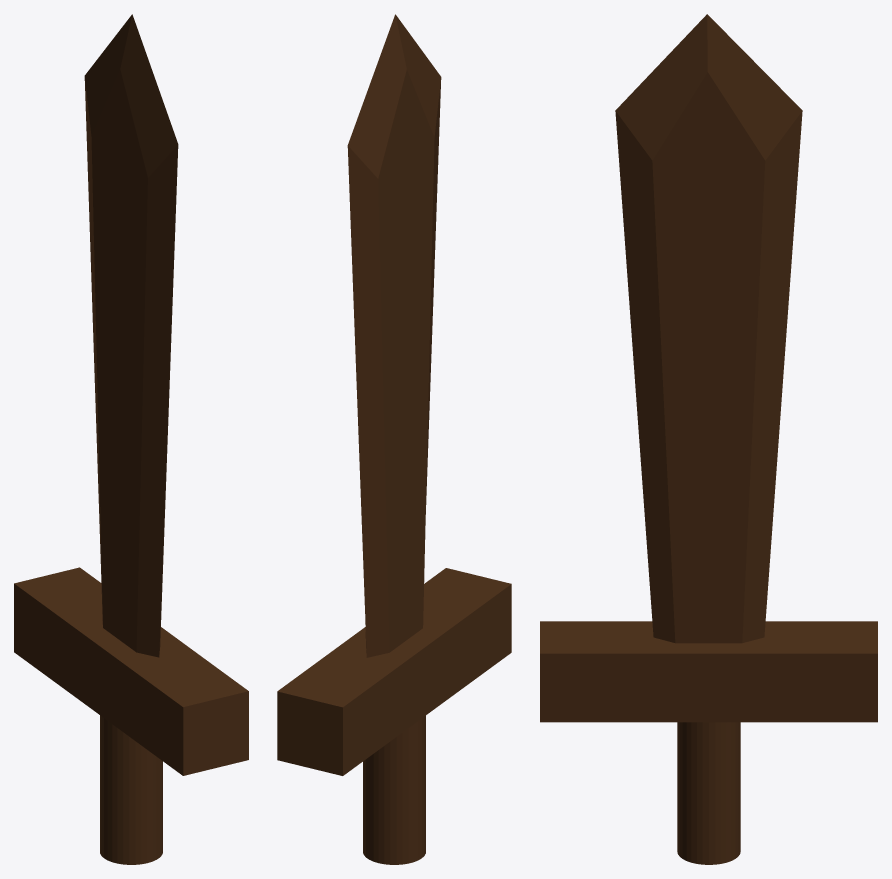
The model's file is Wood Sword.fbx.
The picture shows the model from 3 angles, left to right: view 1: azimuth 30°, elevation 25°; view 2: azimuth 150°, elevation 25°; view 3: azimuth 270°, elevation 25°; orthographic projection.
Visible parts, largest first — view 1: Cylinder.023; view 2: Cylinder.023; view 3: Cylinder.023.
Boxes of the visible parts, box(x1,y1,x2,y2) form: Cylinder.023: box(14, 14, 248, 864); Cylinder.023: box(277, 14, 511, 864); Cylinder.023: box(540, 14, 877, 864).
Bounding box in the file's own units: 4.18 × 50.89 × 18.61.
